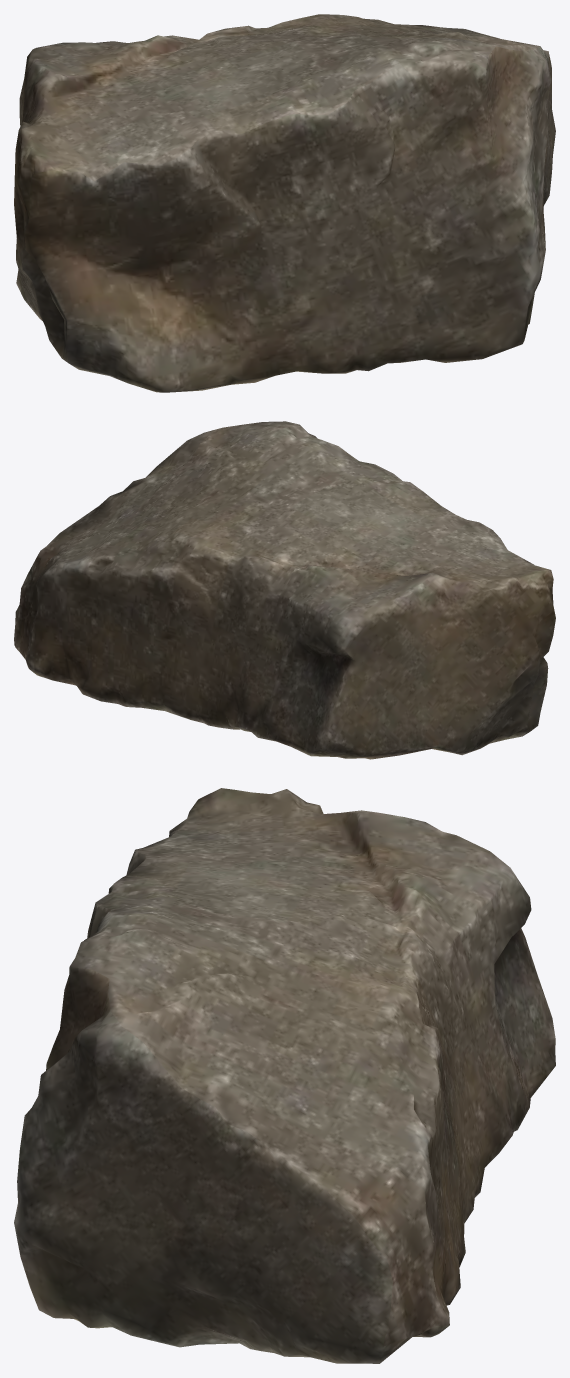
The model's file is boulder.glb.
3 renders of one model, top to bottom at view 1: azimuth 30°, elevation 25°; view 2: azimuth 150°, elevation 25°; view 3: azimuth 270°, elevation 25°, orthographic. The views are drawn at different scales.
Visible parts, largest first — view 1: Boulder Stone; view 2: Boulder Stone; view 3: Boulder Stone.
Part boxes in pixels (left/top/right/bottom): Boulder Stone: left=14, top=14, right=555, bottom=392; Boulder Stone: left=14, top=421, right=555, bottom=759; Boulder Stone: left=14, top=788, right=555, bottom=1363.
Bounding box in the file's own units: 1.72 × 0.8285 × 1.12.
1 material, 1 textured.
